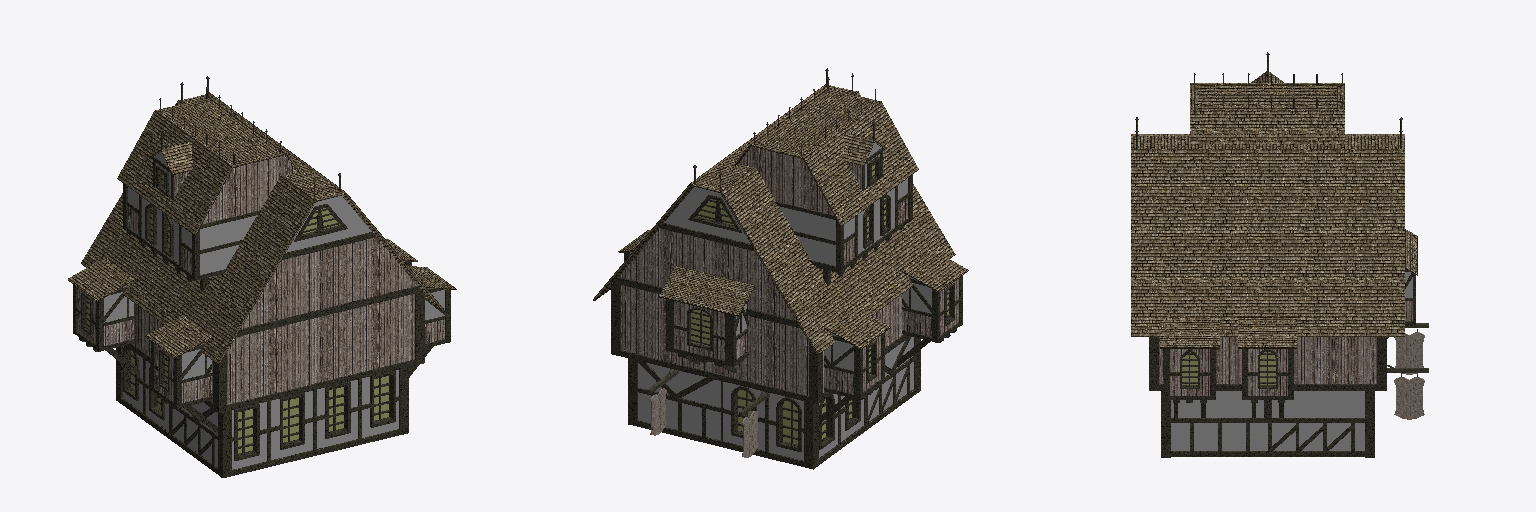
3 views of the same model, side by side, from view 1: azimuth 30°, elevation 25°; view 2: azimuth 150°, elevation 25°; view 3: azimuth 270°, elevation 25° (orthographic).
Parts seen in each view (by area): view 1: node_304_009.021_house1; view 2: node_304_009.021_house1; view 3: node_304_009.021_house1.
Boxes of the visible parts, <box> form: node_304_009.021_house1: <box>68,76,456,477</box>; node_304_009.021_house1: <box>593,68,968,469</box>; node_304_009.021_house1: <box>1131,52,1428,457</box>.
Size of the model in its own units: 4.11 by 4.35 by 3.76.
Materials: 20 (4 with a texture image).